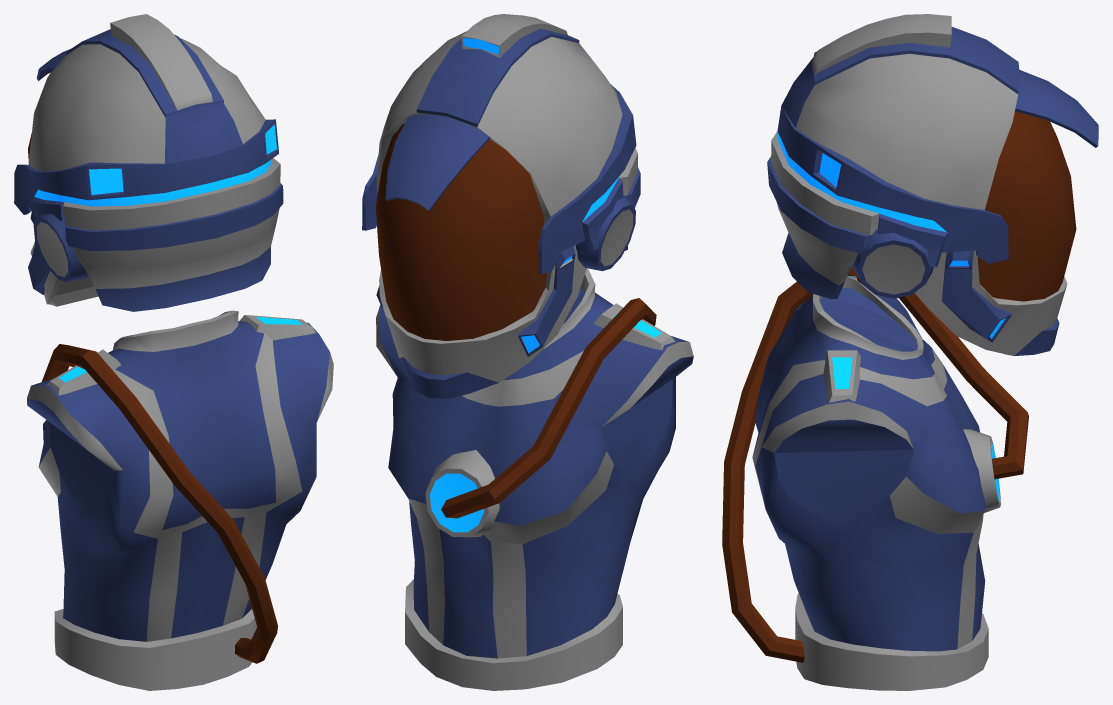
File: Avatar_SciFi.FBX
3 renders of one model, left to right at view 1: azimuth 30°, elevation 25°; view 2: azimuth 150°, elevation 25°; view 3: azimuth 270°, elevation 25°, orthographic. The views are drawn at different scales.
Parts seen in each view (by area): view 1: Avatar_SciFiBody, Avatar_SciFi_Helmet; view 2: Avatar_SciFiBody, Avatar_SciFi_Helmet; view 3: Avatar_SciFiBody, Avatar_SciFi_Helmet.
Part boxes in pixels (x1=…): Avatar_SciFiBody: x1=27, y1=310, x2=333, y2=690; Avatar_SciFi_Helmet: x1=14, y1=14, x2=283, y2=311; Avatar_SciFiBody: x1=376, y1=268, x2=693, y2=690; Avatar_SciFi_Helmet: x1=362, y1=14, x2=640, y2=398; Avatar_SciFiBody: x1=722, y1=266, x2=1028, y2=690; Avatar_SciFi_Helmet: x1=767, y1=14, x2=1098, y2=355.
Bounding box in the file's own units: 1.18 × 2.58 × 1.38.
